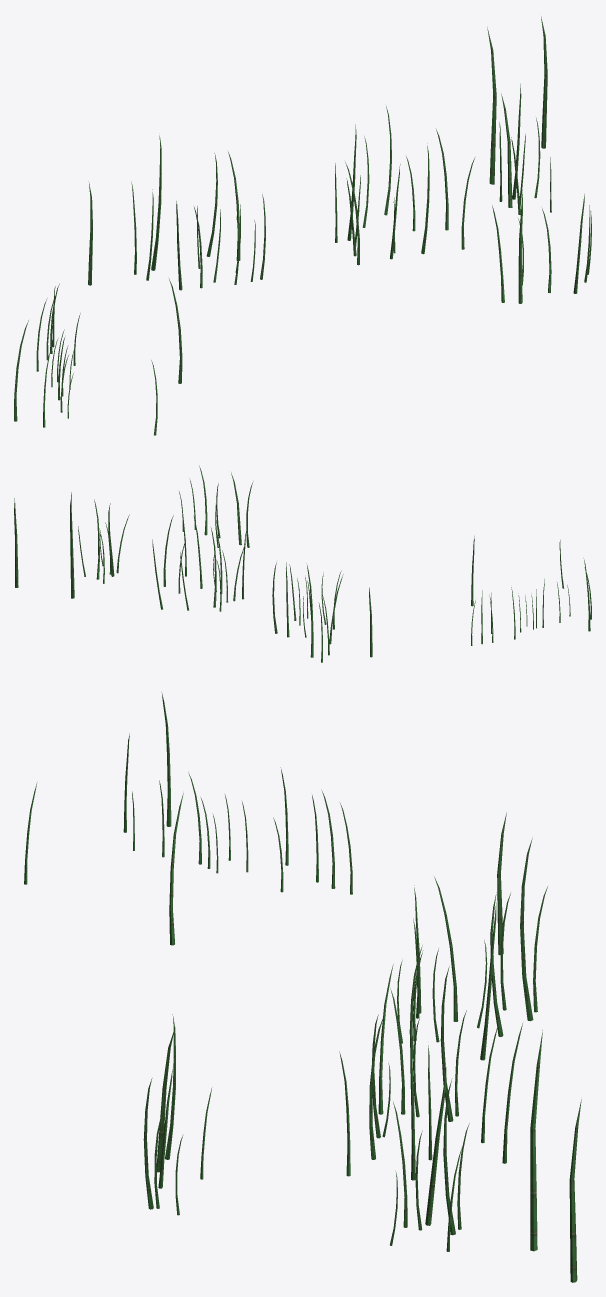
The model's file is Area_06_5.fbx.
3 views of the same model, one above another, from view 1: azimuth 30°, elevation 25°; view 2: azimuth 150°, elevation 25°; view 3: azimuth 270°, elevation 25° (orthographic). The views are drawn at different scales.
Visible parts, largest first — view 1: Area_06_5; view 2: Area_06_5; view 3: Area_06_5.
Part boxes in pixels (x1,y1,x2,y2): Area_06_5: (14, 16, 591, 435); Area_06_5: (14, 465, 591, 662); Area_06_5: (24, 692, 581, 1282).
Size of the model in its own units: 10704 by 2424 by 5448.
